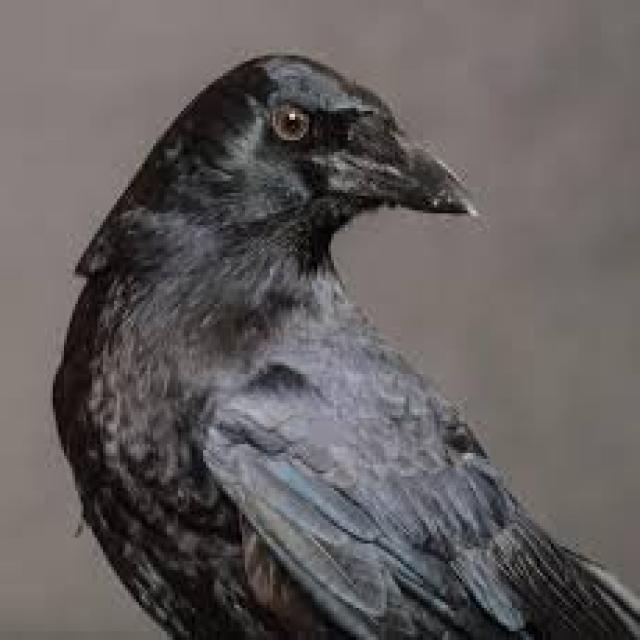crow: (183, 58, 418, 451)
